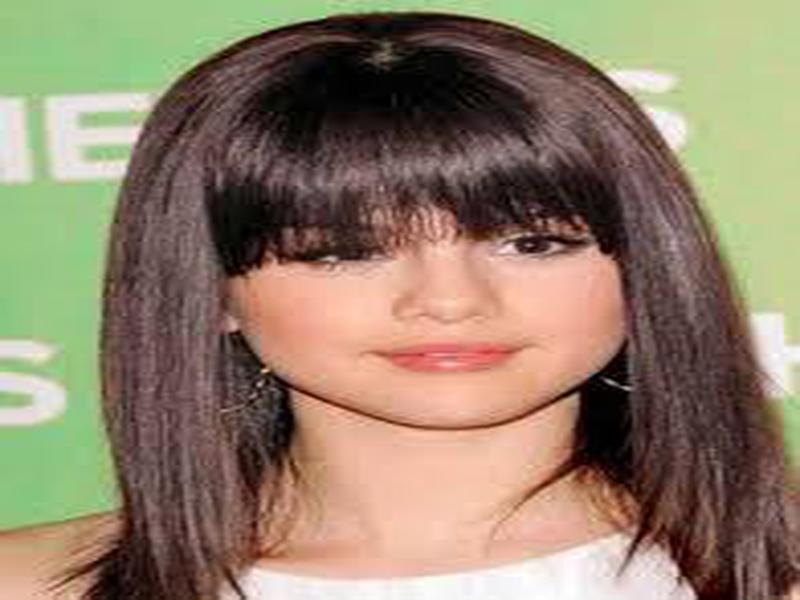without_mask: (221, 197, 626, 423)
